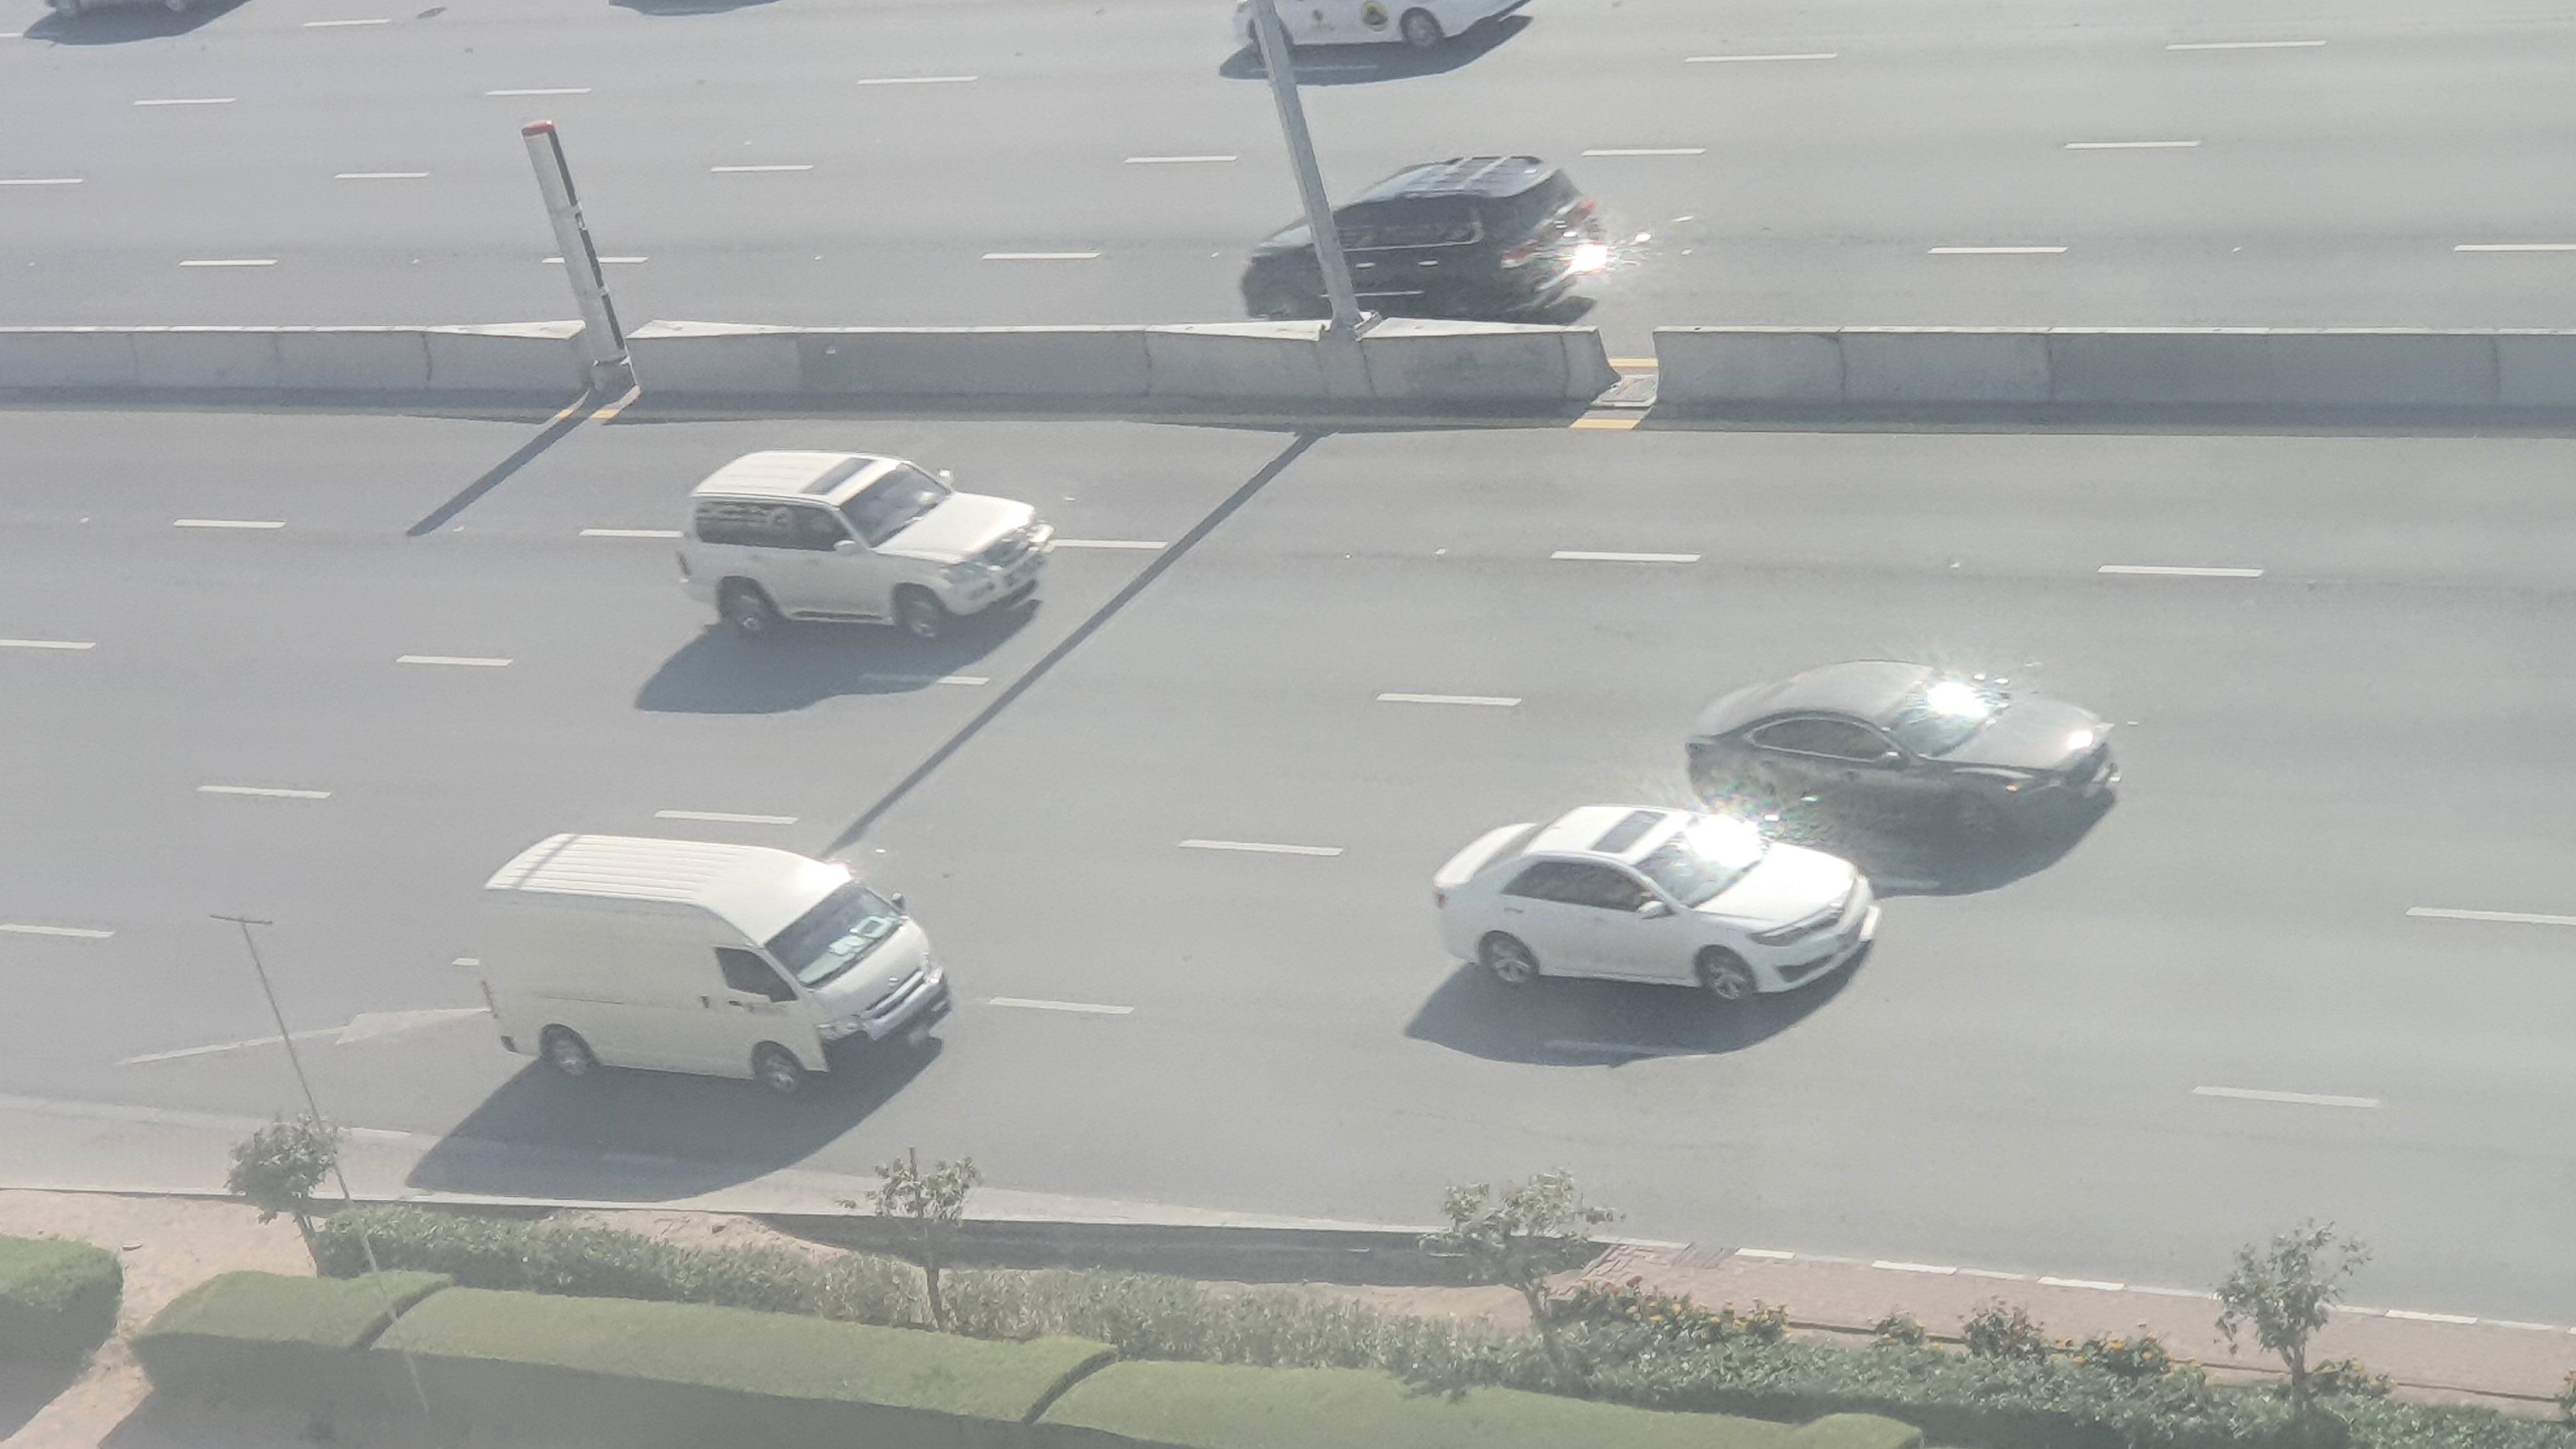NotSunroof: (1683, 656, 2132, 858)
Sunroof: (1424, 803, 1879, 1016), (669, 453, 1054, 649)
